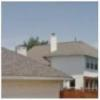chimneys: (49, 32, 60, 54), (14, 45, 28, 57)
